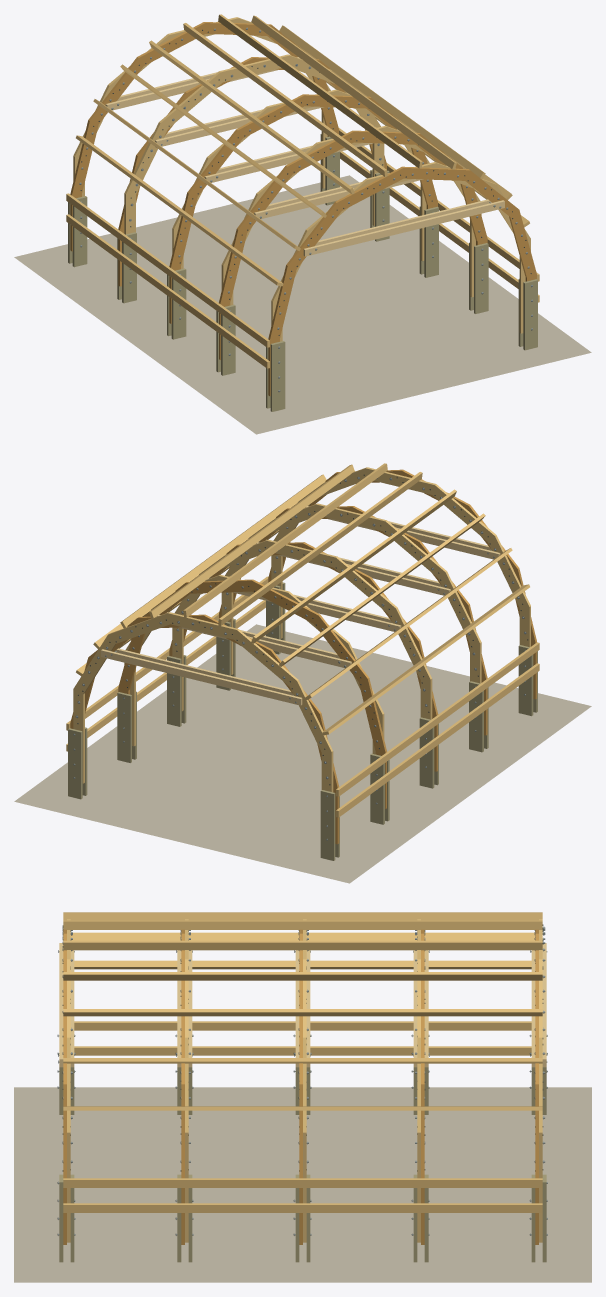
Rendered from frame.glb.
3 views of the same model, one above another, from view 1: azimuth 30°, elevation 25°; view 2: azimuth 150°, elevation 25°; view 3: azimuth 270°, elevation 25° (orthographic). The views are drawn at different scales.
Visible parts, largest first — view 1: greenhouse; view 2: greenhouse; view 3: greenhouse.
Boxes of the visible parts, <box> form: greenhouse: <box>14,14,591,434</box>; greenhouse: <box>14,463,591,883</box>; greenhouse: <box>14,912,591,1282</box>.
Bounding box in the file's own units: 4.7 × 2.85 × 5.88.
